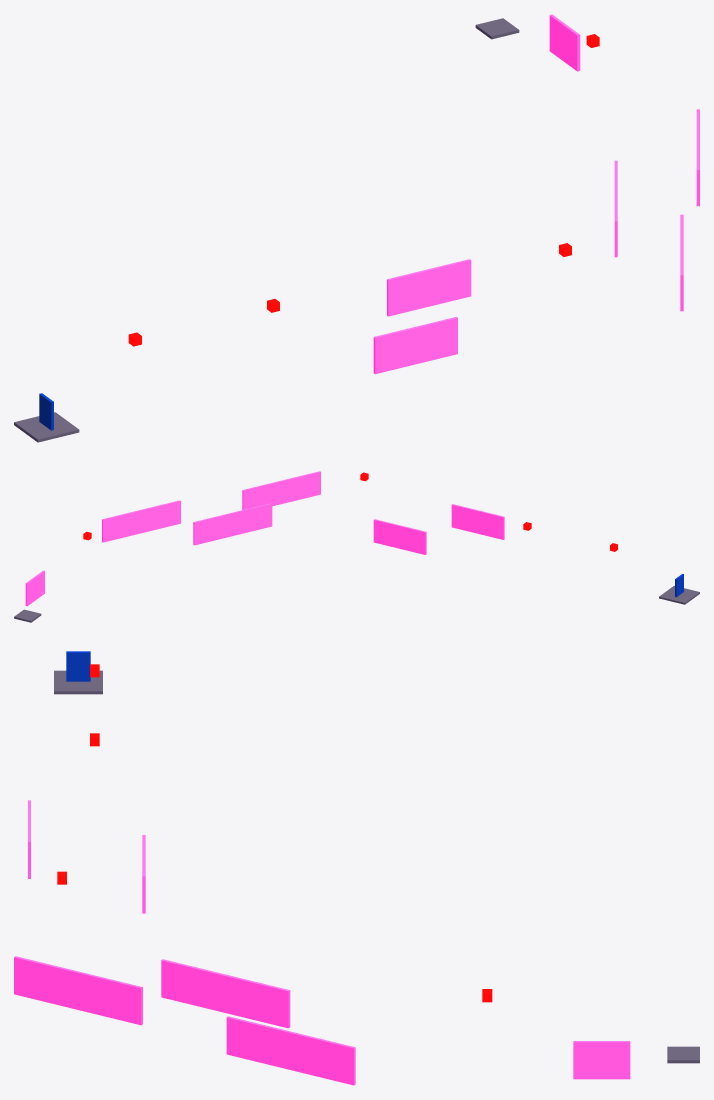
The model's file is level13FBX.fbx.
The picture shows the model from 3 angles, top to bottom: view 1: azimuth 30°, elevation 25°; view 2: azimuth 150°, elevation 25°; view 3: azimuth 270°, elevation 25°; orthographic projection. The views are drawn at different scales.
Visible parts, largest first — view 1: Wall_Run__4_, Wall_Run__2_, Wall_Run__1_, Cube__6_; view 2: Wall_Run__7_, Wall_Run__5_, Wall_Run__6_, Wall_Run__4_, Wall_Run__2_, Wall_Run__3_, Wall_Run__1_, Cube__6_; view 3: Wall_Run__5_, Wall_Run__7_, Wall_Run__6_, Wall_Run__1_, Cube__6_, nextLevel.
Boxes of the visible parts, x1,y1,x2,y2 form: Wall_Run__4_: (373,317,457,374); Wall_Run__2_: (387,259,471,316); Wall_Run__1_: (549,14,580,71); Cube__6_: (14,412,79,442); Wall_Run__7_: (193,503,272,545); Wall_Run__5_: (102,500,180,542); Wall_Run__6_: (242,471,320,509); Wall_Run__4_: (451,504,504,539); Wall_Run__2_: (373,519,426,554); Wall_Run__3_: (380,521,418,553); Wall_Run__1_: (25,570,44,606); Cube__6_: (659,585,699,604); Wall_Run__5_: (226,1016,355,1085); Wall_Run__7_: (161,959,290,1028); Wall_Run__6_: (14,956,142,1025); Wall_Run__1_: (573,1041,630,1079); Cube__6_: (54,670,102,694); nextLevel: (66,651,90,681).
Bounding box in the file's own units: 29268 × 2488 × 20974.
